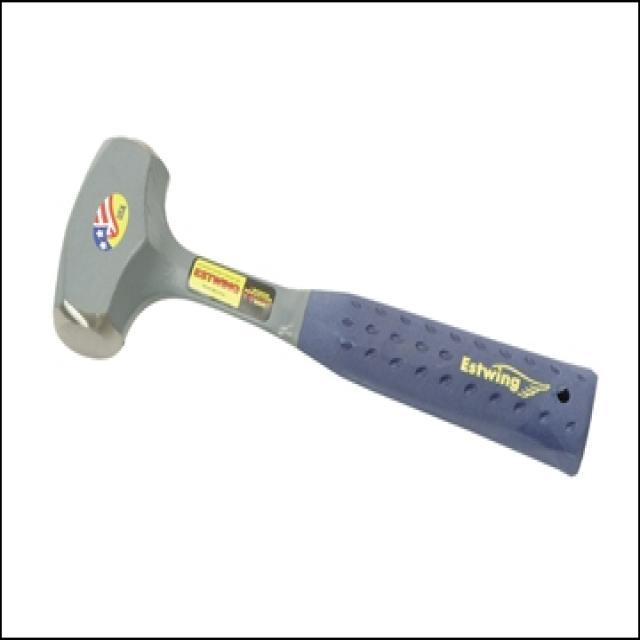hammer: (40, 124, 600, 487)
